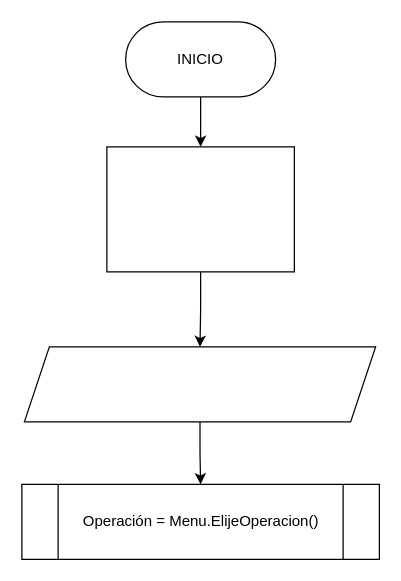
The diagram is 401 pixels wide and 581 high, and some of its shapes have lost their labels. The shapes that lost their labels are listed below. From the top down, each one's box as (x1, y1, x2, y2) in pixels, then its label:
(106, 146, 294, 272): Declaramos variables: Operación como Entero
(23, 346, 376, 422): ¨---------EJERCICIO TIPO EXAMEN---------¨
